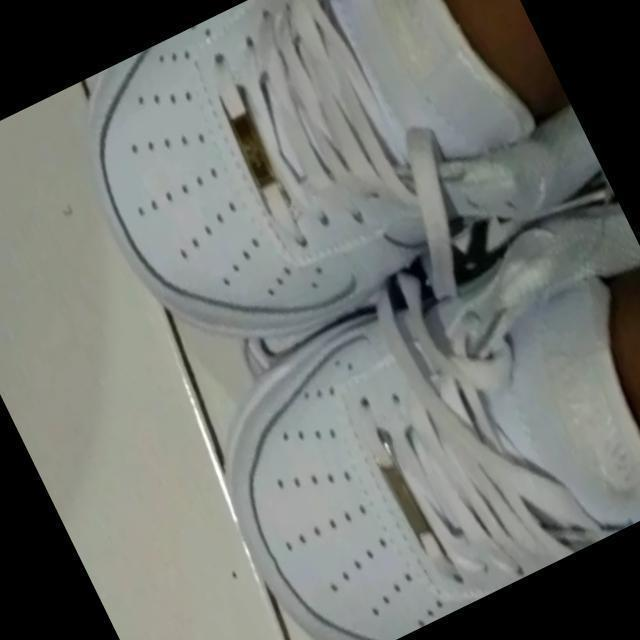nike fake air force: (31, 0, 615, 410), (167, 184, 640, 640)
